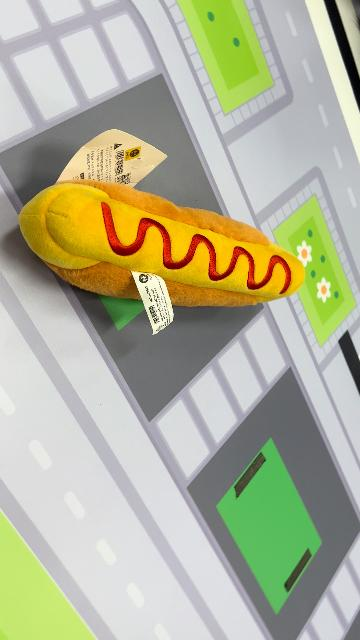hotdog: (17, 178, 307, 310)
